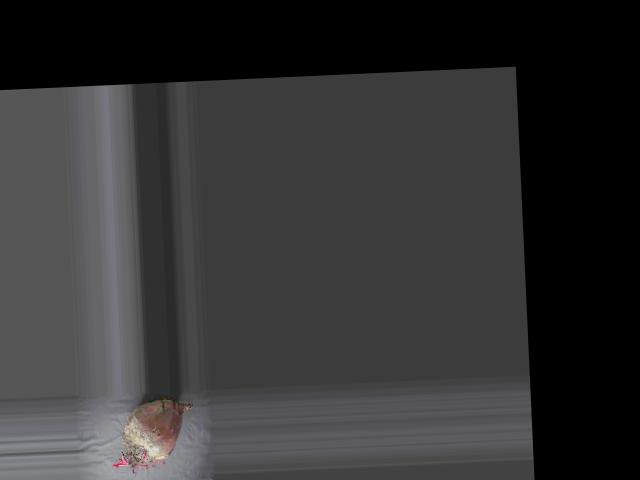beet: (108, 398, 197, 474)
